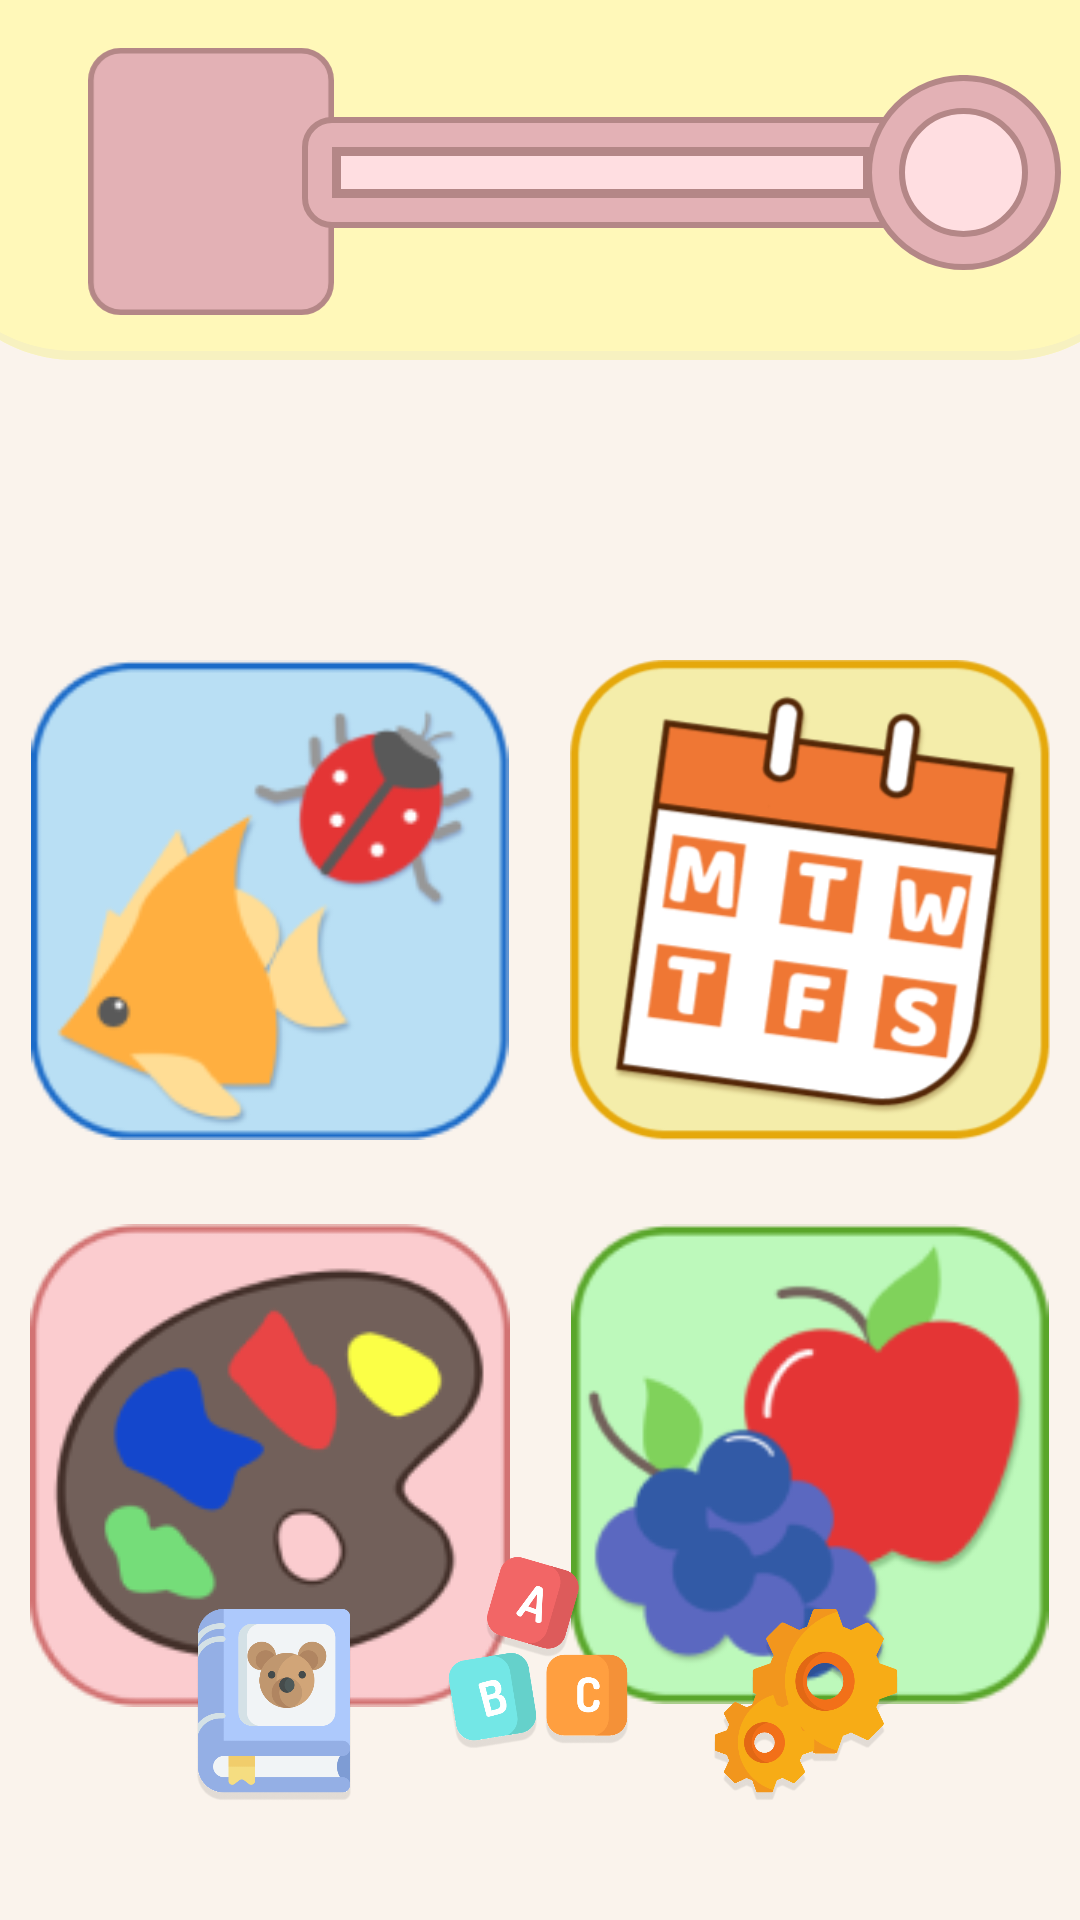

Icon click points for this 1080px×1920px phone screenshot, format (x=x, y=y):
settingsicon: (x=806, y=1705)
